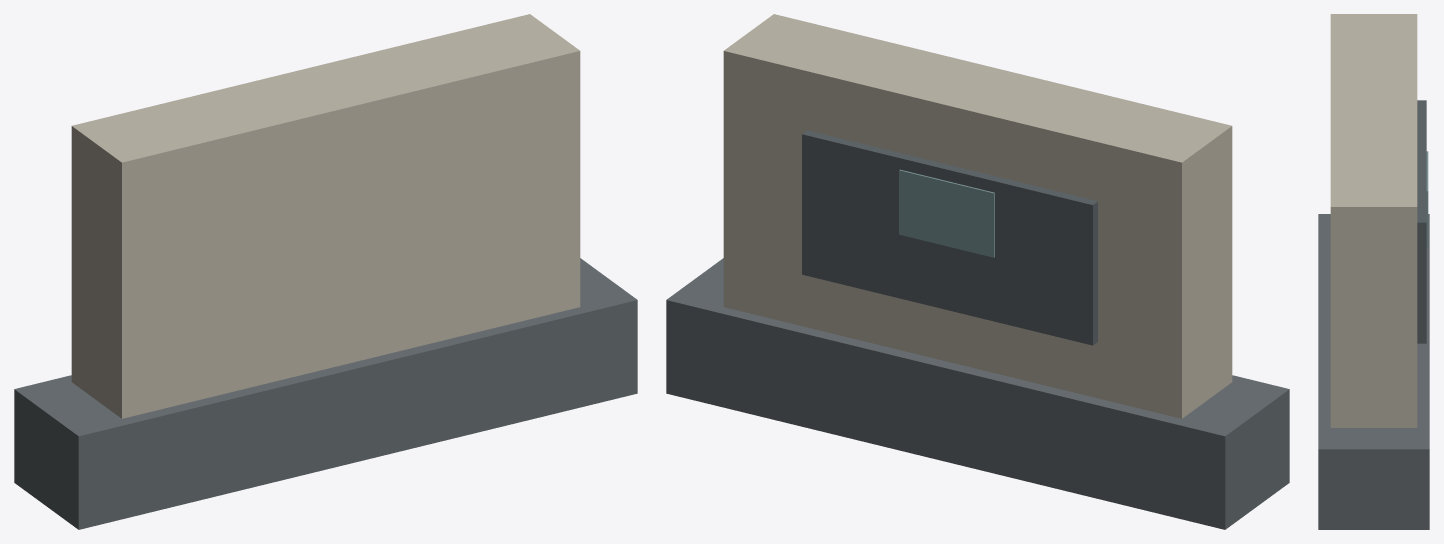
File: iz3_build_defense_barricade_01.glb
3 views of the same model, side by side, from view 1: azimuth 30°, elevation 25°; view 2: azimuth 150°, elevation 25°; view 3: azimuth 270°, elevation 25° (orthographic). The views are drawn at different scales.
Parts seen in each view (by area): view 1: cabinet, base; view 2: cabinet, base, panel, display; view 3: cabinet, base, panel, display.
Boxes of the visible parts, <box> form: cabinet: <box>71,14,580,418</box>; base: <box>14,258,637,529</box>; cabinet: <box>723,14,1232,418</box>; base: <box>666,258,1289,529</box>; panel: <box>802,130,1097,345</box>; display: <box>899,169,994,257</box>; cabinet: <box>1330,14,1417,427</box>; base: <box>1318,214,1429,529</box>; panel: <box>1417,100,1426,343</box>; display: <box>1426,151,1428,246</box>.
Size of the model in its own units: 2 by 1.2 by 0.4.
